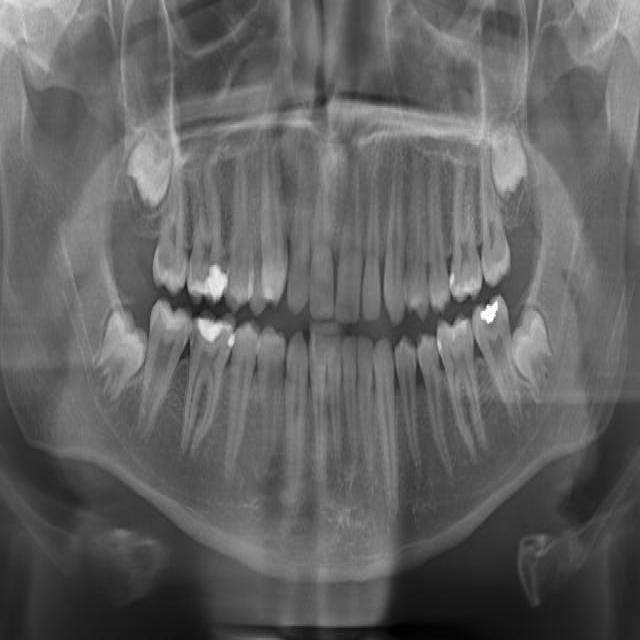dolgu: (190, 307, 240, 365), (190, 254, 227, 305), (476, 295, 508, 345)
